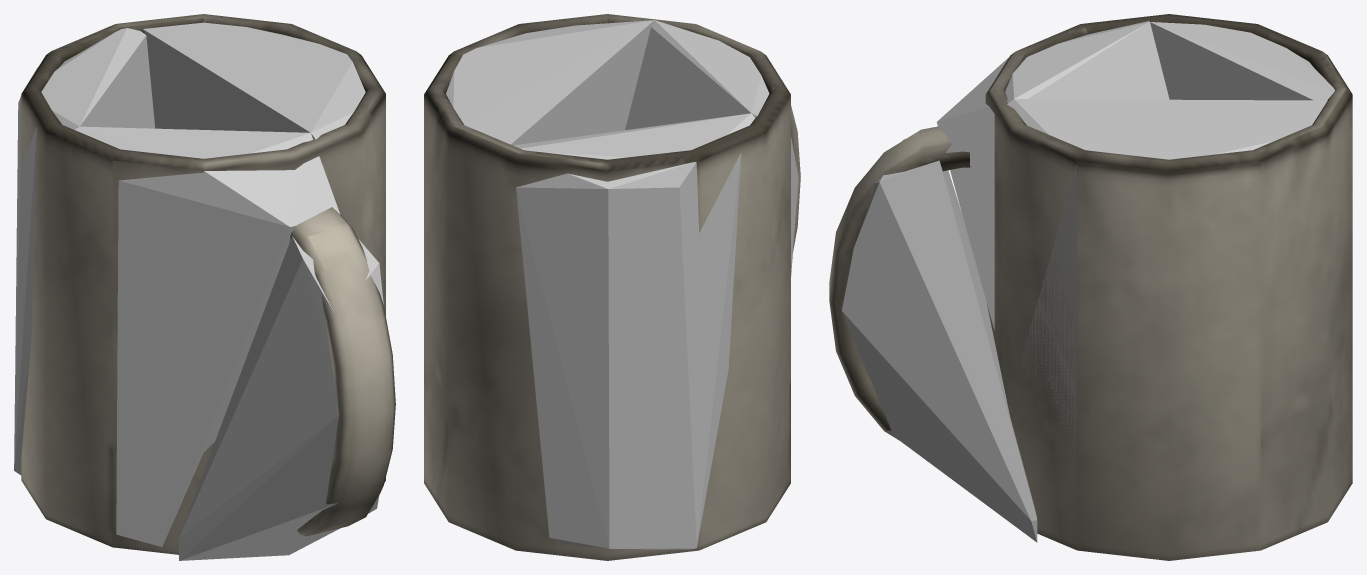
The model's file is SM_Mug_01.fbx.
3 renders of one model, left to right at view 1: azimuth 30°, elevation 25°; view 2: azimuth 150°, elevation 25°; view 3: azimuth 270°, elevation 25°, orthographic.
Visible parts, largest first — view 1: SM_Mug_01_ConvexHulls, SM_Mug_01; view 2: SM_Mug_01_ConvexHulls, SM_Mug_01; view 3: SM_Mug_01, SM_Mug_01_ConvexHulls.
Part boxes in pixels (bbox=[...]): SM_Mug_01_ConvexHulls: bbox=[14, 22, 383, 560]; SM_Mug_01: bbox=[21, 14, 395, 557]; SM_Mug_01_ConvexHulls: bbox=[446, 20, 798, 549]; SM_Mug_01: bbox=[424, 14, 800, 560]; SM_Mug_01: bbox=[829, 14, 1352, 560]; SM_Mug_01_ConvexHulls: bbox=[842, 21, 1334, 542].
Bounding box in the file's own units: 12.15 × 17.32 × 14.84.
Materials: 2 (1 with a texture image).
